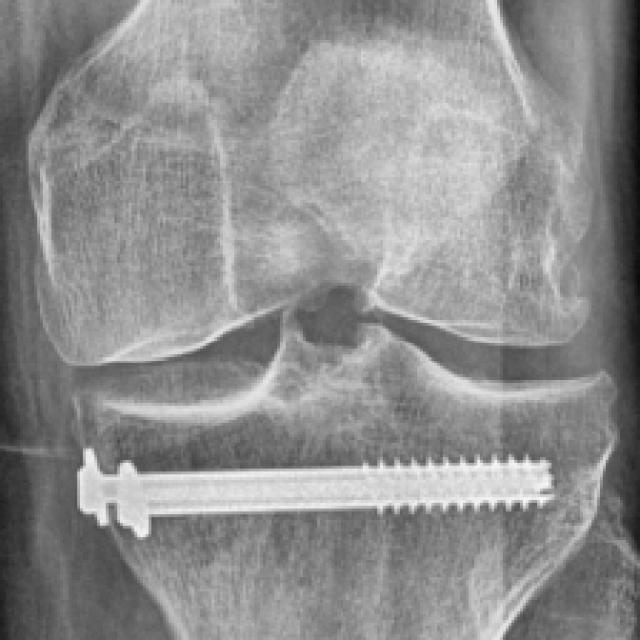femur: (25, 0, 598, 365)
tibia: (69, 312, 625, 640)
